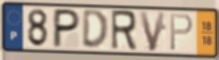8: (26, 8, 49, 48)
D: (81, 9, 110, 51)
P: (51, 7, 82, 50), (169, 13, 195, 53)
R: (110, 9, 138, 53)
V: (137, 11, 167, 53)
